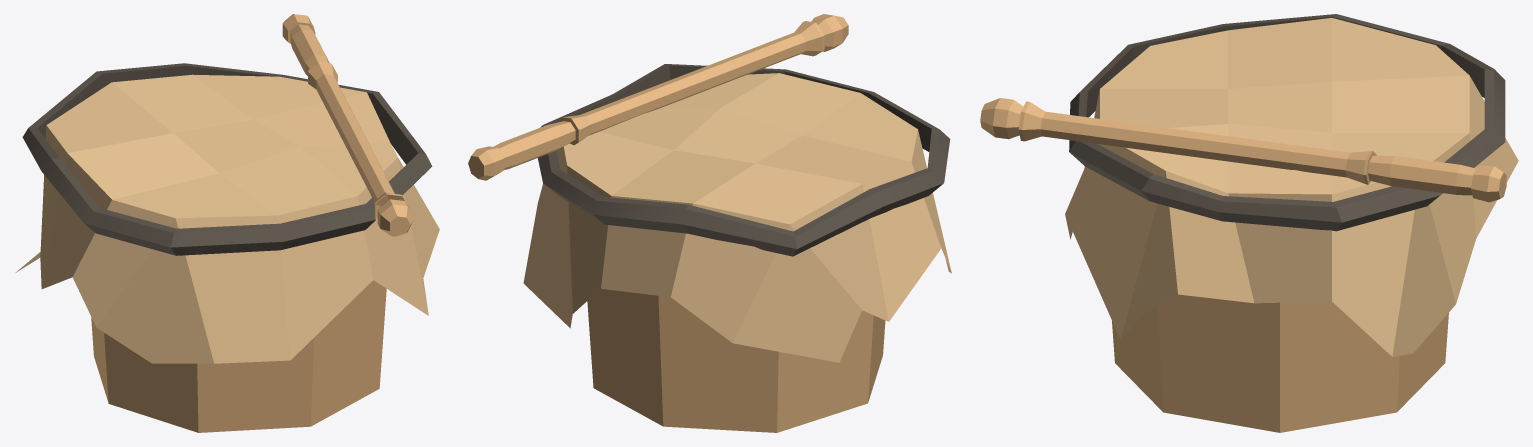
File: water drum.gltf
3 views of the same model, side by side, from view 1: azimuth 30°, elevation 25°; view 2: azimuth 150°, elevation 25°; view 3: azimuth 270°, elevation 25° (orthographic). The views are drawn at different scales.
Visible parts, largest first — view 1: water drum; view 2: water drum; view 3: water drum.
Boxes of the visible parts, bbox=[...] form: water drum: bbox=[15, 14, 439, 432]; water drum: bbox=[468, 14, 951, 432]; water drum: bbox=[980, 14, 1518, 432].
Size of the model in its own units: 1.48 by 0.9995 by 1.73.
